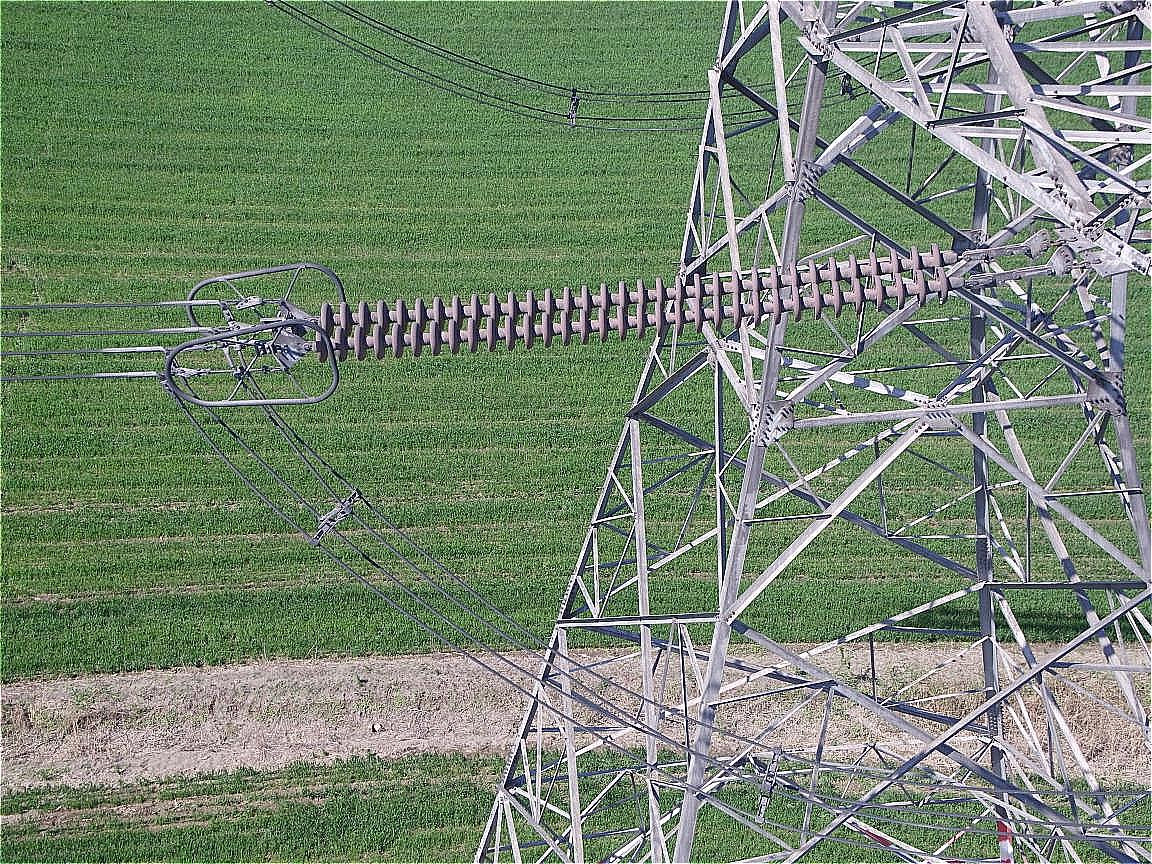insultor1: (302, 237, 965, 370)
